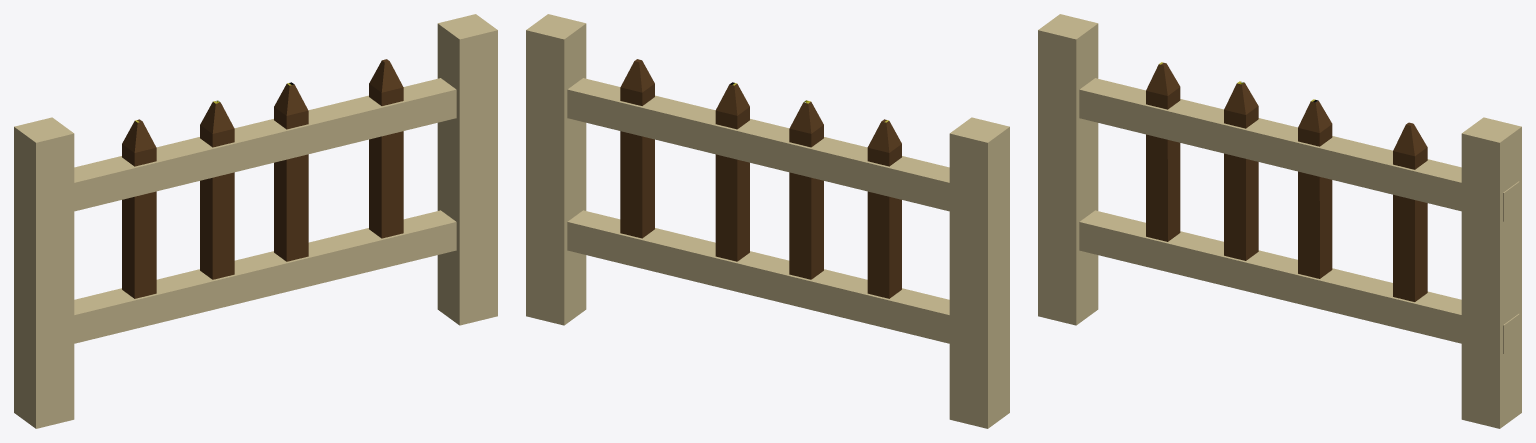
File: Death 1.fbx
3 renders of one model, left to right at view 1: azimuth 30°, elevation 25°; view 2: azimuth 150°, elevation 25°; view 3: azimuth 330°, elevation 25°, orthographic.
Visible parts, largest first — view 1: Cube.001, Cube.006, Cube.004; view 2: Cube.001, Cube.006, Cube.004; view 3: Cube.001, Cube.006, Cube.004.
Boxes of the visible parts, x1,y1,x2,y2 form: Cube.001: (14, 14, 497, 428); Cube.006: (122, 82, 308, 298); Cube.004: (369, 59, 403, 238); Cube.001: (526, 14, 1009, 428); Cube.006: (715, 82, 901, 298); Cube.004: (620, 59, 654, 238); Cube.001: (1038, 14, 1521, 428); Cube.006: (1146, 62, 1332, 278); Cube.004: (1393, 122, 1427, 301).
Bounding box in the file's own units: 846 × 500 × 70.
Materials: 3 (3 with a texture image).
